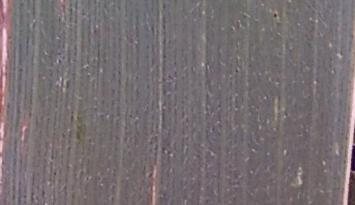tarspot: (272, 12, 278, 20), (234, 68, 239, 74)
